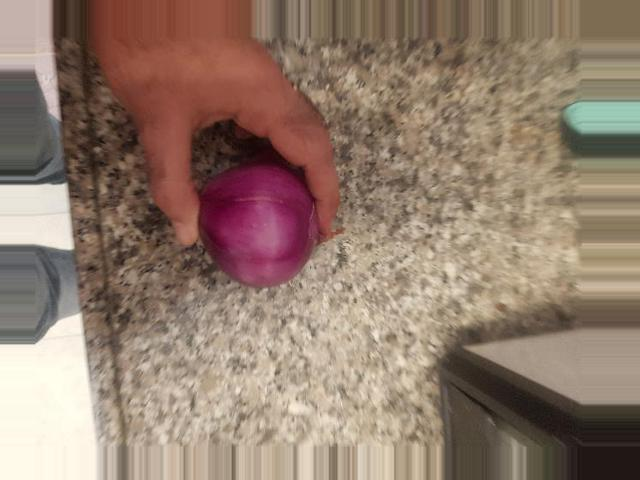onion: (296, 306, 414, 428)
